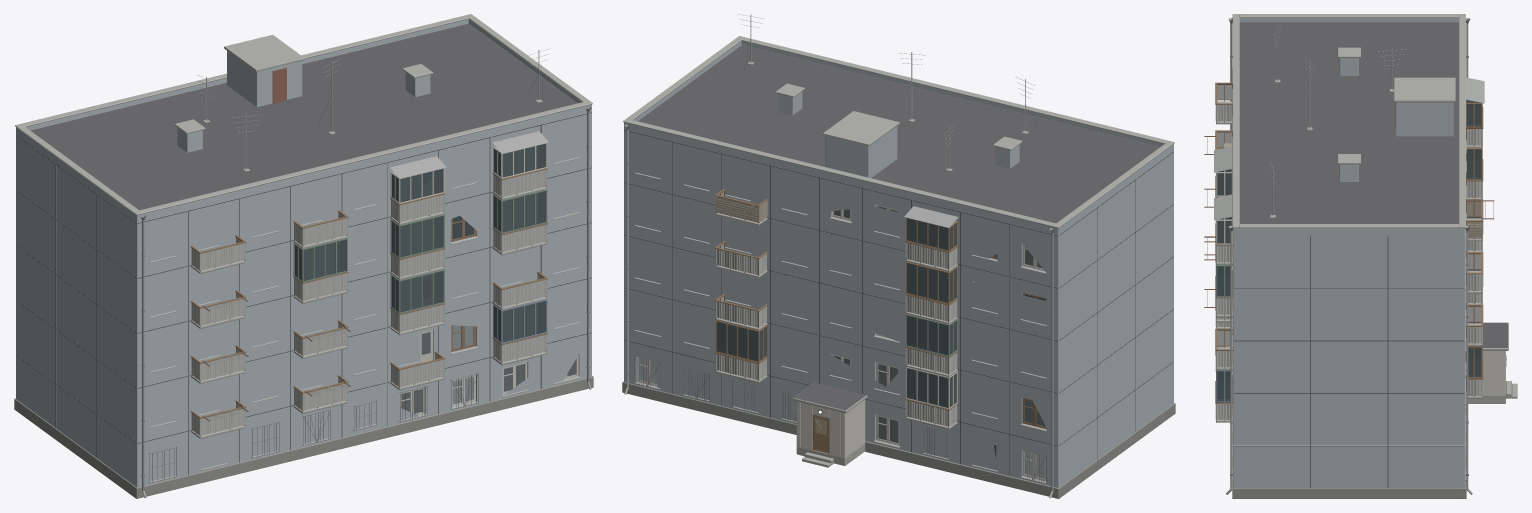
The model's file is Khrushchevka_A (4).fbx.
3 views of the same model, side by side, from view 1: azimuth 30°, elevation 25°; view 2: azimuth 150°, elevation 25°; view 3: azimuth 270°, elevation 25° (orthographic). The views are drawn at different scales.
Parts seen in each view (by area): view 1: Khrushchevka_A_Walls, Khrushchevka_A_Roof, Khrushchevka_A_Balconies, Khrushchevka_A_Windows, Khrushchevka_A_Drainpipes; view 2: Khrushchevka_A_Walls, Khrushchevka_A_Roof, Khrushchevka_A_Balconies, Khrushchevka_A_Windows, Khrushchevka_A_Entrance, Khrushchevka_A_Drainpipes; view 3: Khrushchevka_A_Walls, Khrushchevka_A_Roof, Khrushchevka_A_Balconies, Khrushchevka_A_Entrance, Khrushchevka_A_Drainpipes, Khrushchevka_A_Windows.
Boxes of the visible parts, <box> form: Khrushchevka_A_Walls: <box>14,104,593,498</box>; Khrushchevka_A_Roof: <box>15,14,592,215</box>; Khrushchevka_A_Balconies: <box>190,131,549,438</box>; Khrushchevka_A_Windows: <box>149,157,580,483</box>; Khrushchevka_A_Drainpipes: <box>140,106,591,497</box>; Khrushchevka_A_Walls: <box>622,122,1175,498</box>; Khrushchevka_A_Roof: <box>623,14,1174,228</box>; Khrushchevka_A_Balconies: <box>712,188,958,429</box>; Khrushchevka_A_Windows: <box>634,172,1046,483</box>; Khrushchevka_A_Entrance: <box>793,382,867,467</box>; Khrushchevka_A_Drainpipes: <box>624,124,1055,498</box>; Khrushchevka_A_Walls: <box>1232,228,1466,498</box>; Khrushchevka_A_Roof: <box>1232,14,1465,227</box>; Khrushchevka_A_Balconies: <box>1204,77,1494,422</box>; Khrushchevka_A_Entrance: <box>1468,322,1517,403</box>; Khrushchevka_A_Drainpipes: <box>1226,18,1472,494</box>; Khrushchevka_A_Windows: <box>1232,68,1466,480</box>.
Bounding box in the file's own units: 26.12 × 19.14 × 16.2.
